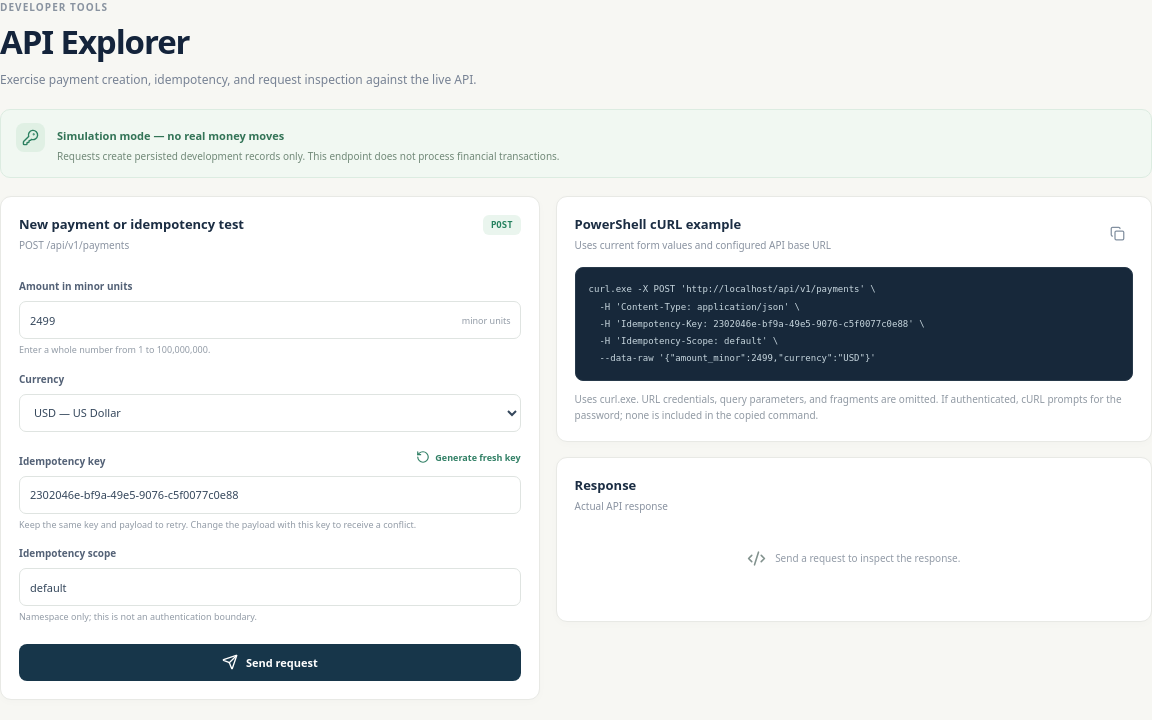
API Explorer › creates, explicitly replays, conflicts, and inspects actual request records
Click the button "Send request" at {"x": 270, "y": 662}, box top-left (19, 644), bottom-right (521, 681)
(page scrolled)
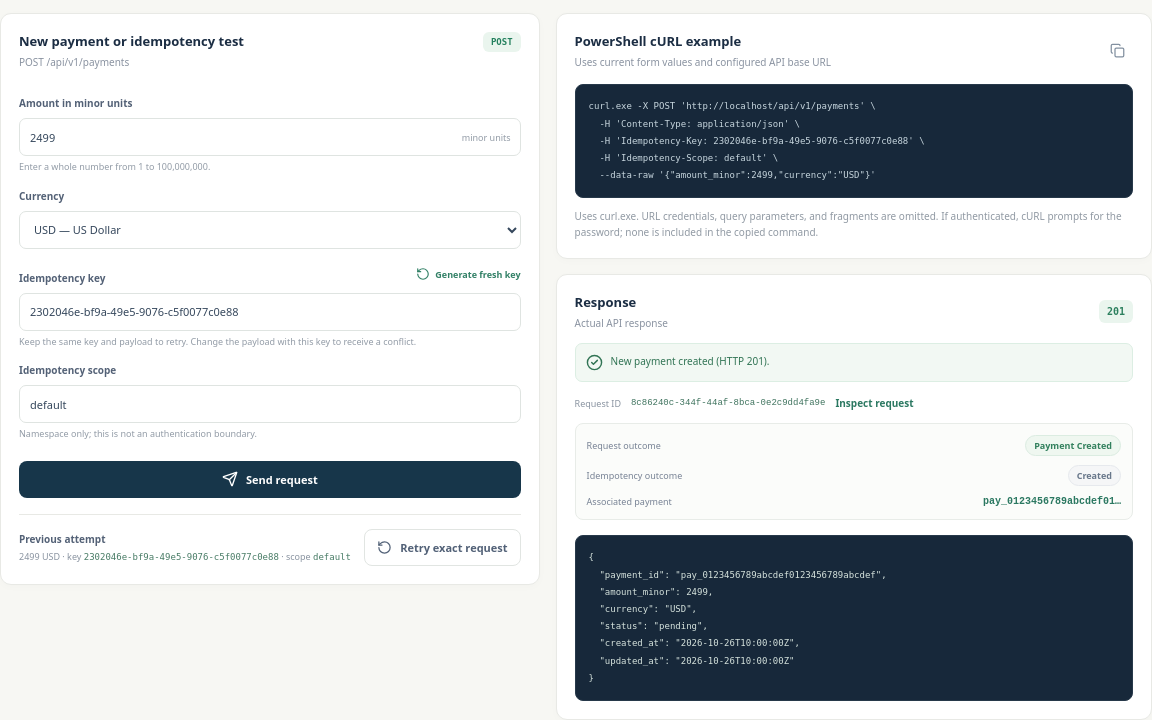
Now the text "New payment created (HTTP 201)." is shown, box top-left (611, 354), bottom-right (770, 369)
Now the text "created" is shown, box top-left (1068, 465), bottom-right (1121, 486)
Click the button "Retry exact request" at {"x": 442, "y": 547}, box top-left (364, 529), bottom-right (521, 566)
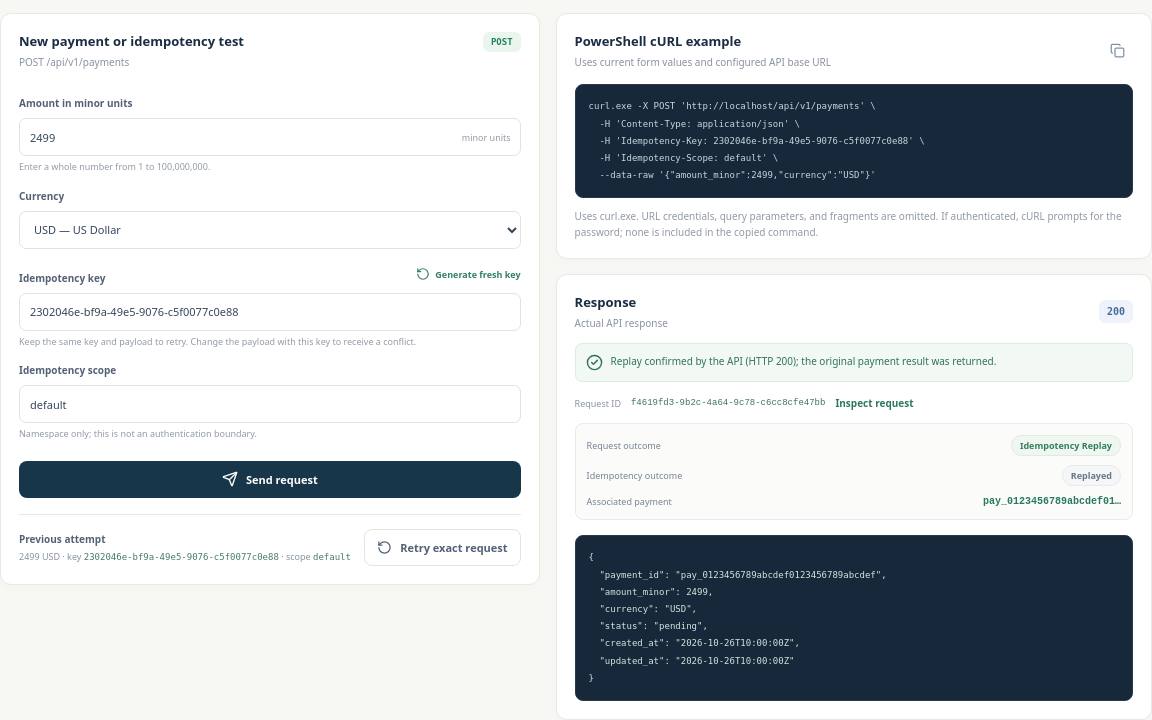
Now the text "Replay confirmed by the API (HTTP 200)" is shown, box top-left (611, 354), bottom-right (996, 368)
Now the text "replayed" is shown, box top-left (1062, 465), bottom-right (1121, 486)
Replace the text in the number field labelled "Amount in minor units" with "2500" at {"x": 270, "y": 137}, box top-left (19, 118), bottom-right (521, 156)
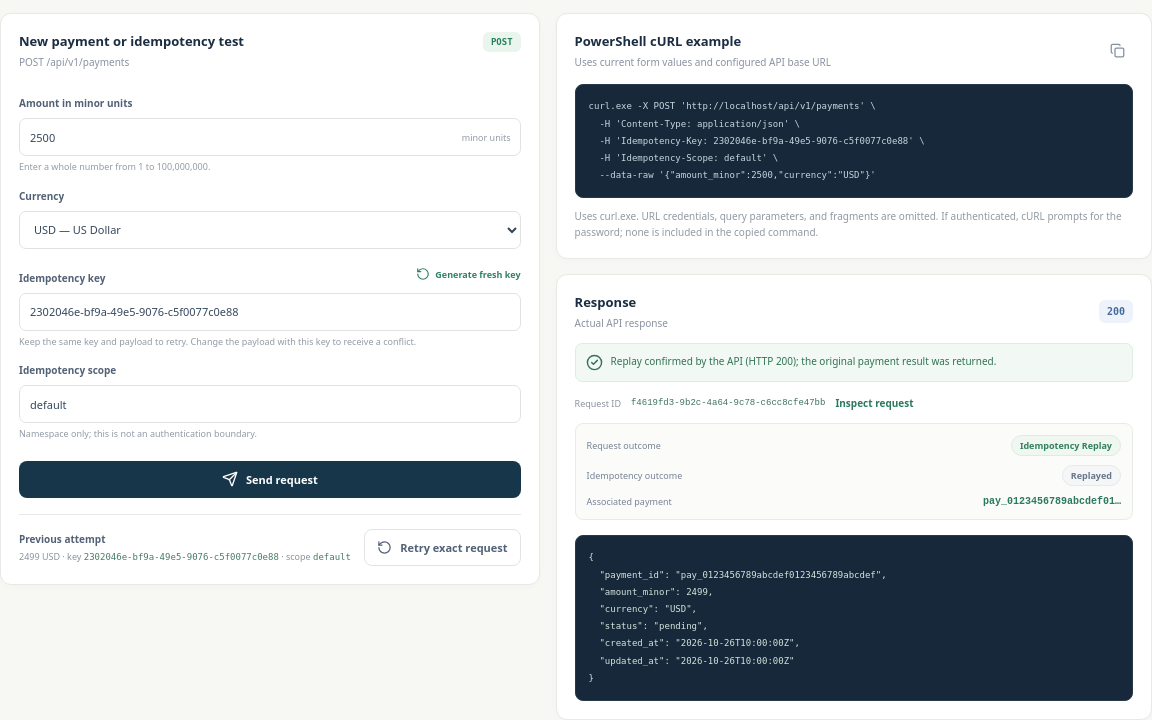
Click the button "Send request" at {"x": 270, "y": 479}, box top-left (19, 461), bottom-right (521, 498)
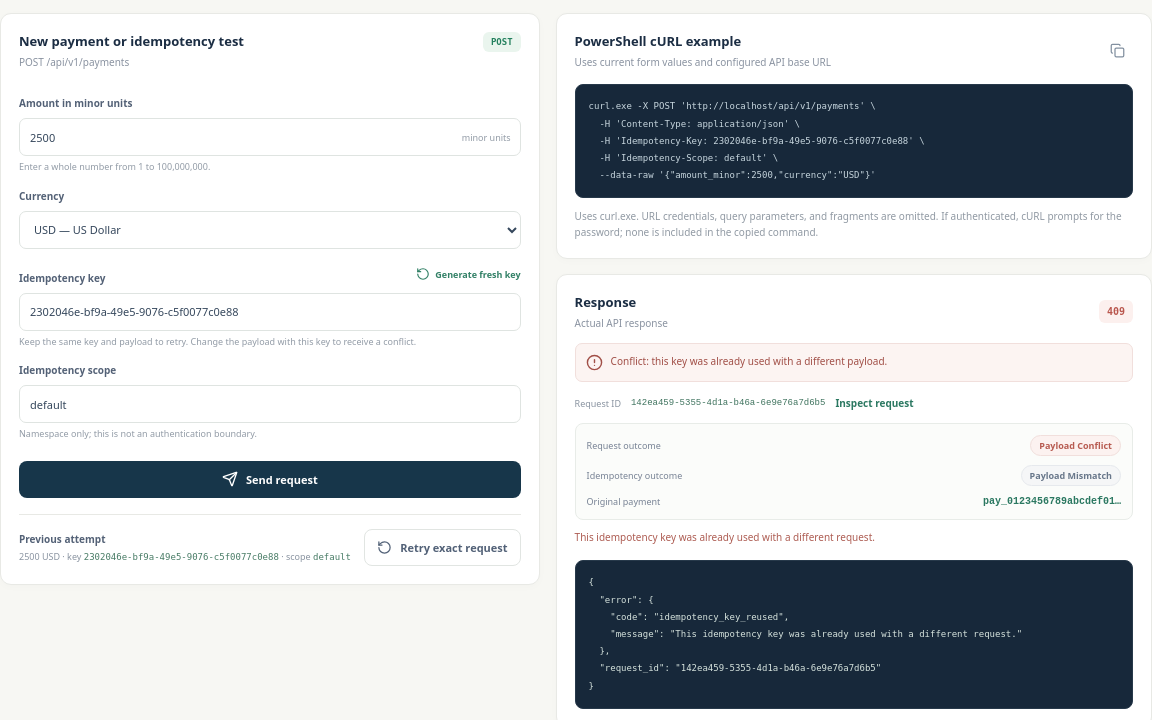
Now the text "409" is shown, box top-left (1099, 300), bottom-right (1133, 323)
Now the text "This idempotency key was already used with a different request." is shown, box top-left (575, 530), bottom-right (875, 544)
Now the text "payload mismatch" is shown, box top-left (1020, 465), bottom-right (1121, 486)
Click the link "Inspect request" at {"x": 874, "y": 403}, box top-left (835, 396), bottom-right (914, 410)
(page scrolled)
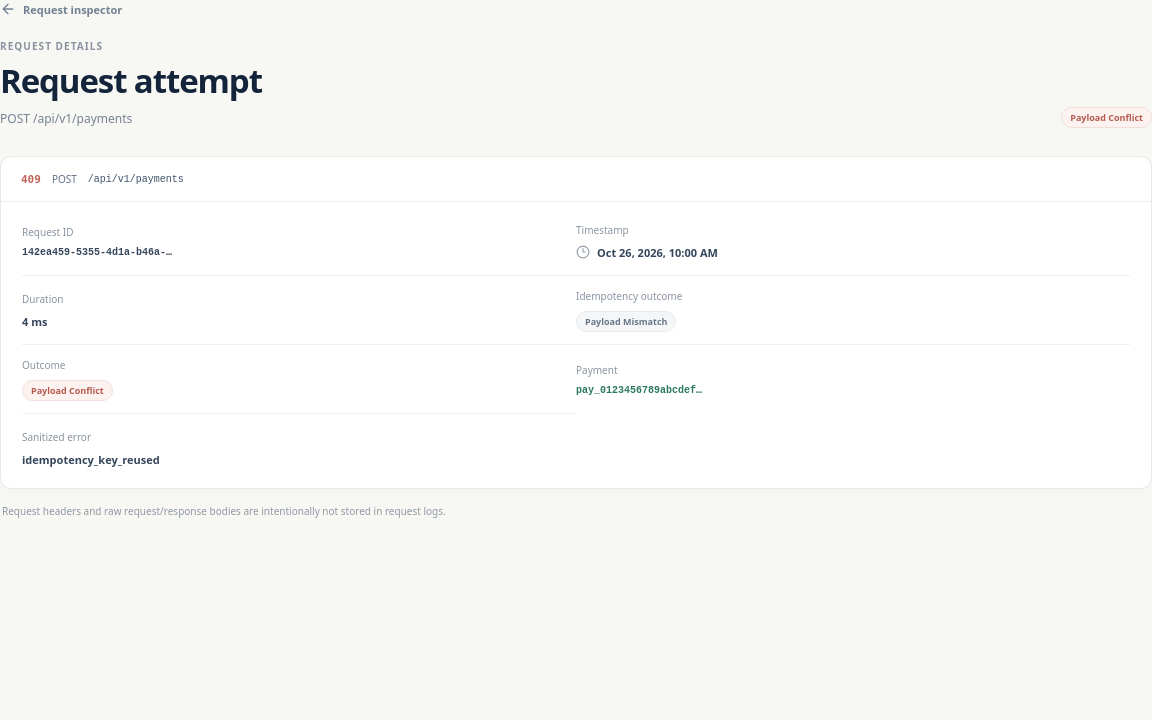
Now the 1st text "payload conflict" is shown, box top-left (1061, 107), bottom-right (1151, 128)
Now the heading "Request attempt" is shown, box top-left (0, 60), bottom-right (262, 101)
